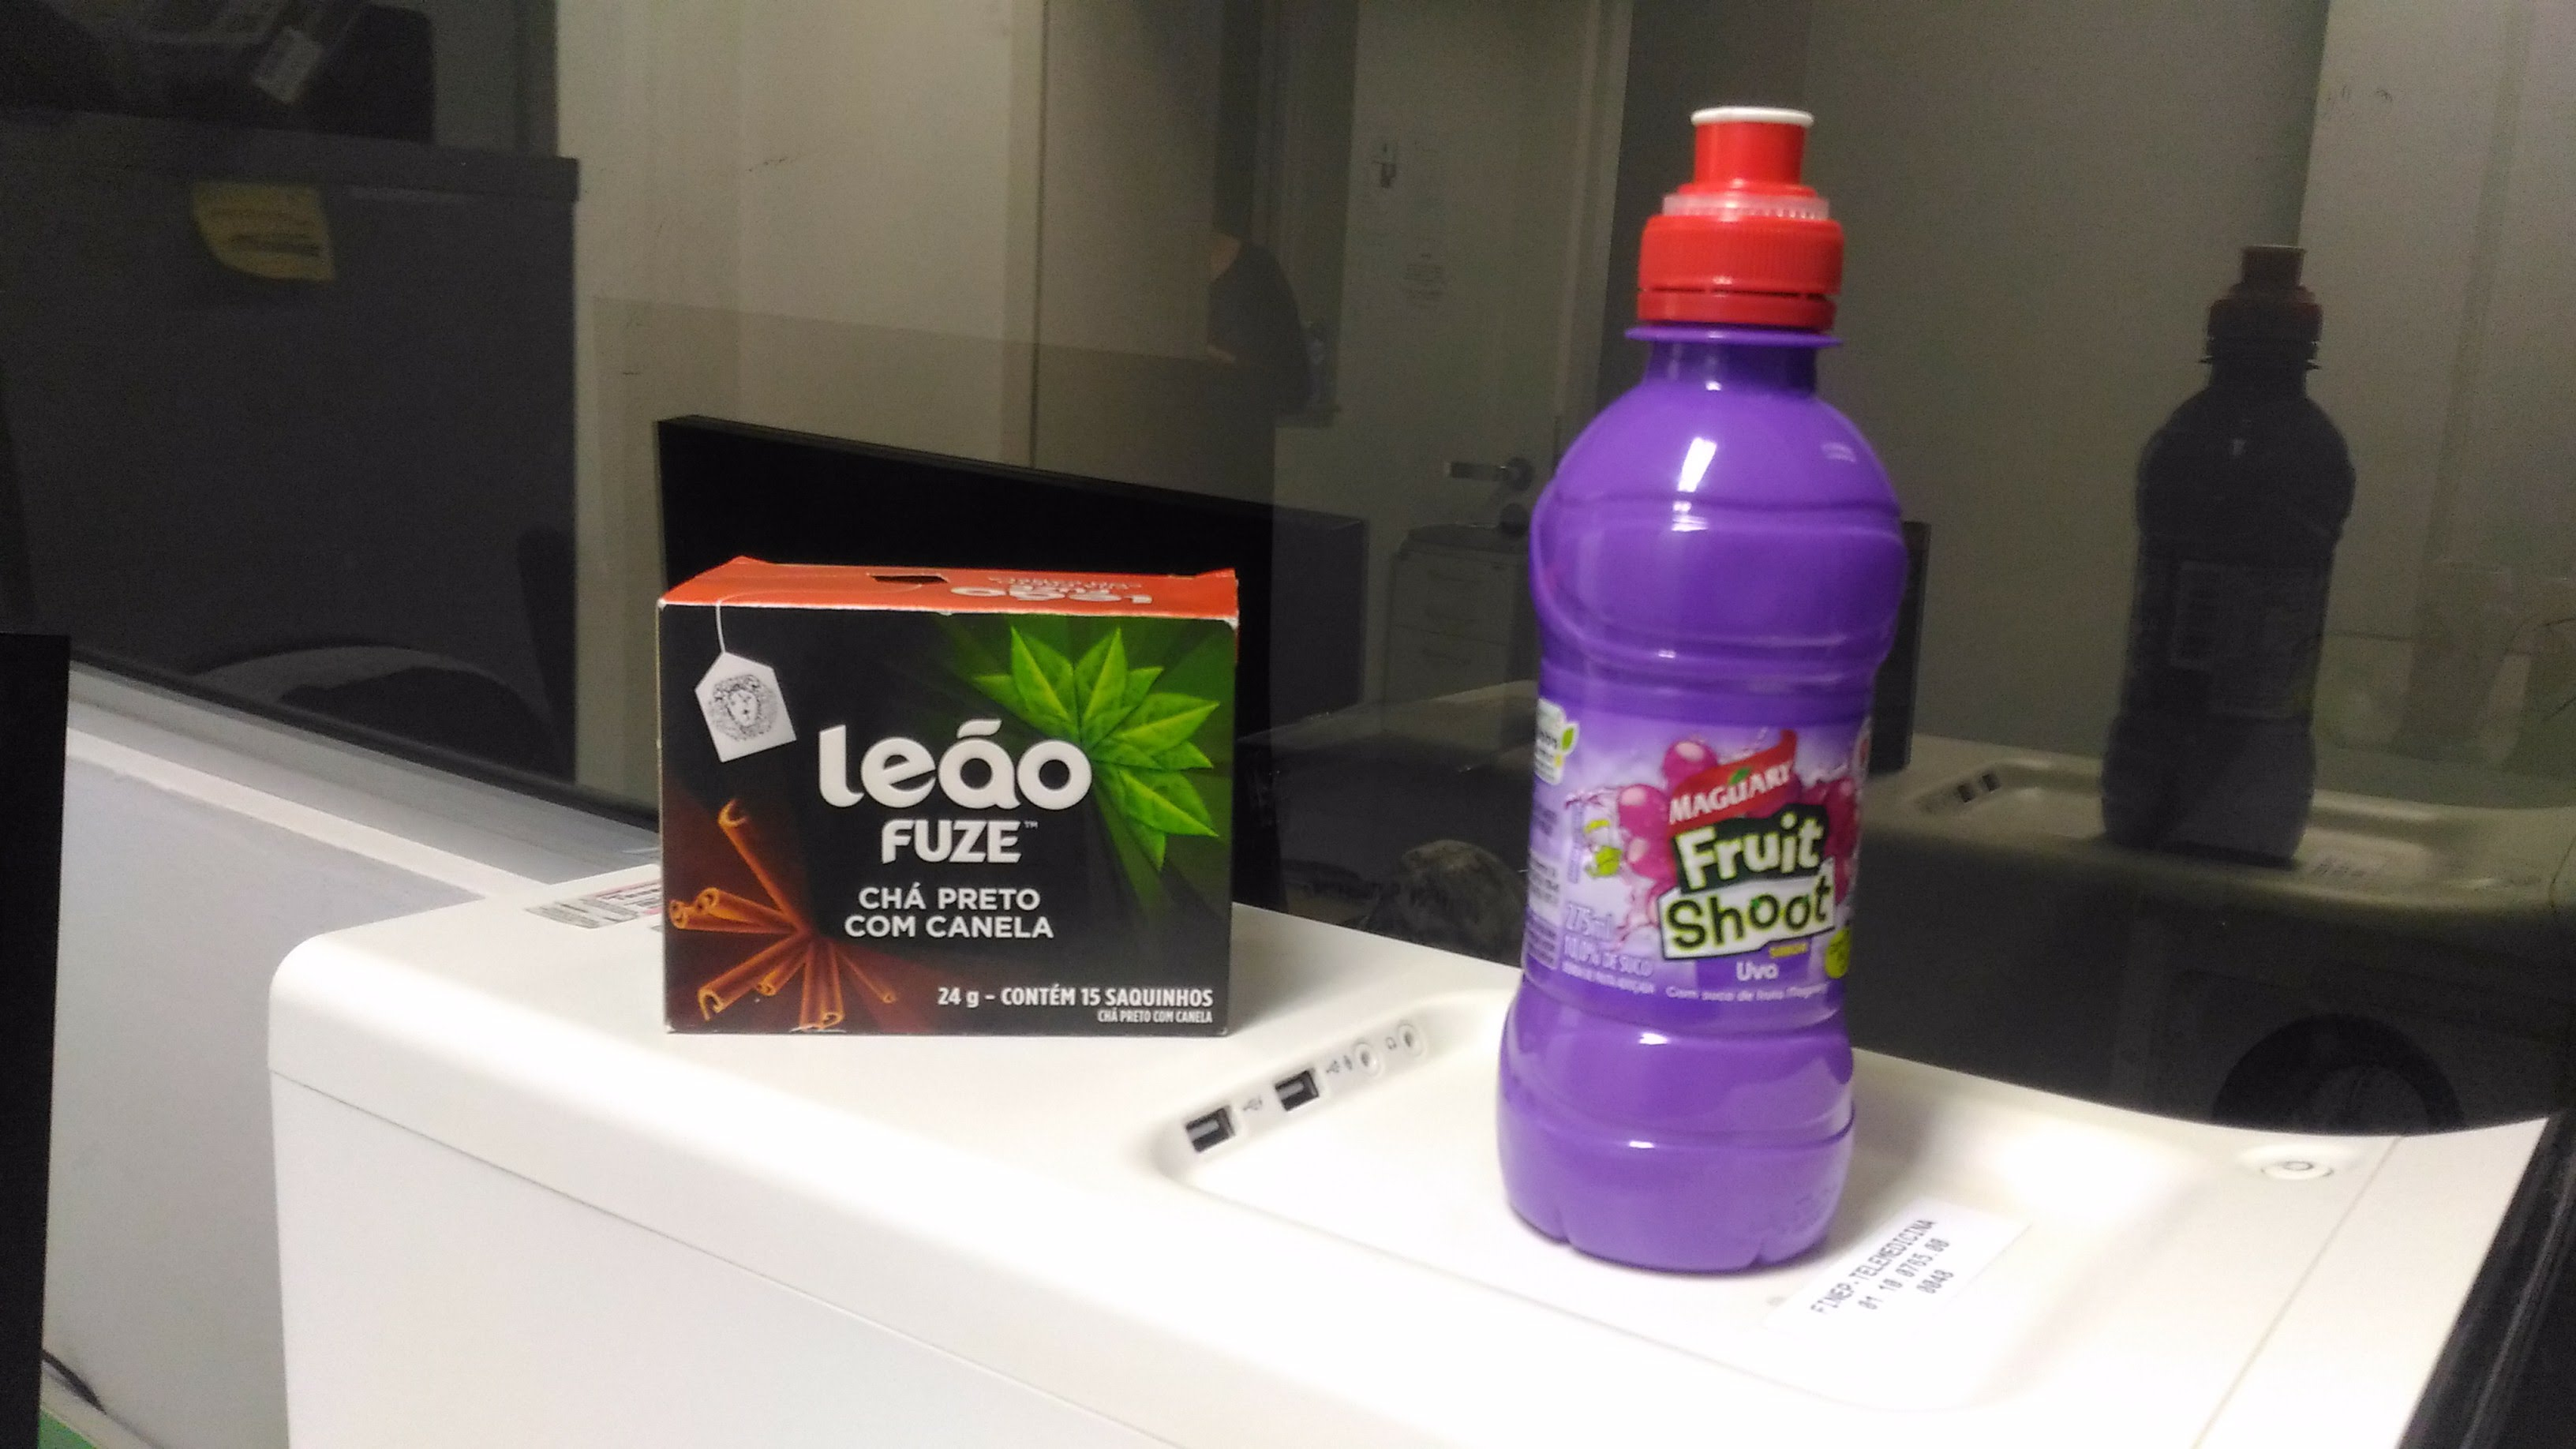purple_juice: (1495, 76, 1898, 1290)
tea_box: (648, 541, 1246, 1056)
